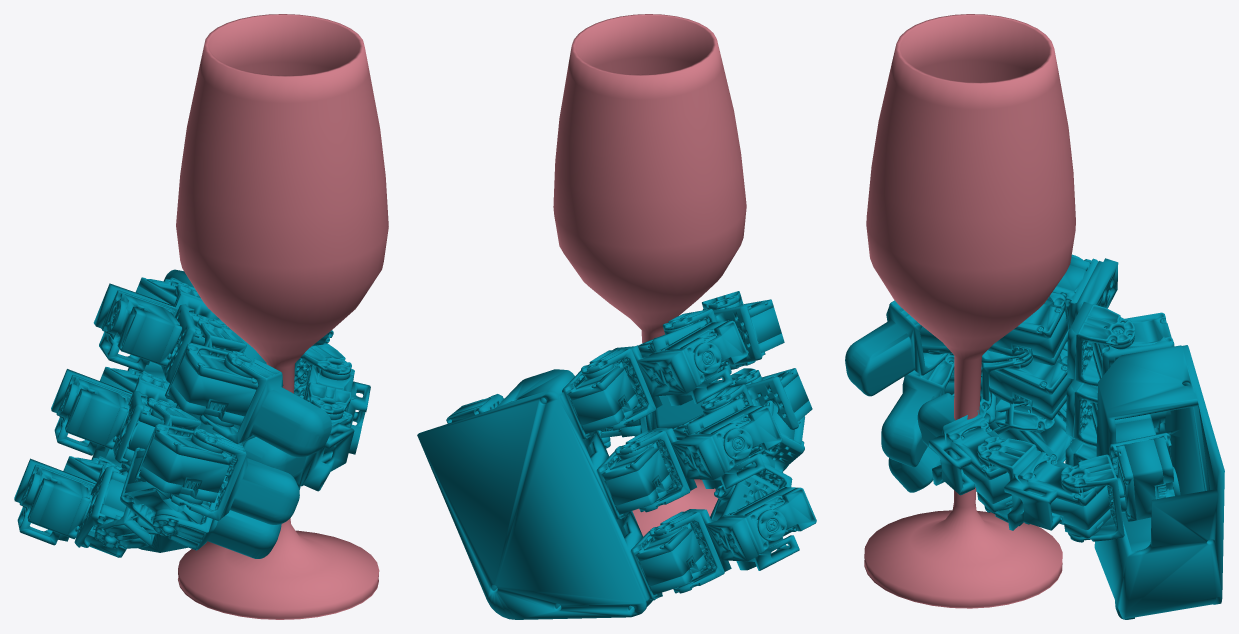
3 renders of one model, left to right at view 1: azimuth 30°, elevation 25°; view 2: azimuth 150°, elevation 25°; view 3: azimuth 270°, elevation 25°, orthographic. The views are drawn at different scales.
Visible parts, largest first — view 1: world; view 2: world; view 3: world.
Part boxes in pixels (bbox=[...]): world: bbox=[14, 14, 388, 619]; world: bbox=[417, 14, 816, 619]; world: bbox=[845, 14, 1224, 619].
Bounding box in the file's own units: 0.1847 × 0.2892 × 0.1767.
